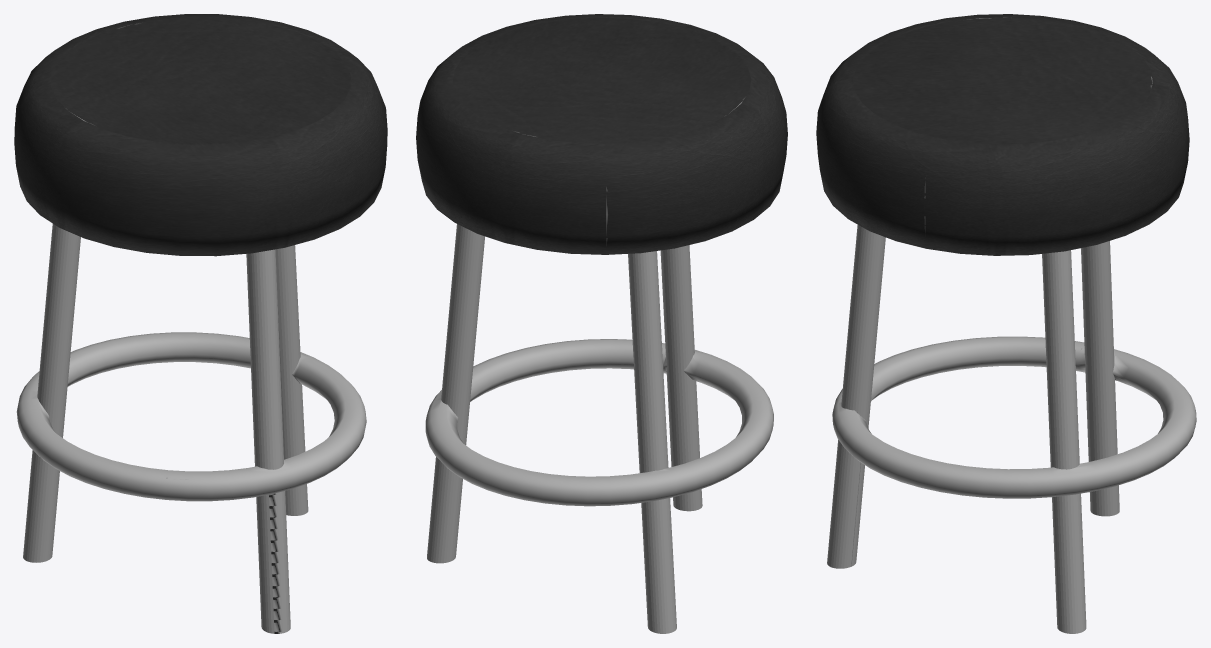
Rendered from SB_Stool.fbx.
3 views of the same model, side by side, from view 1: azimuth 30°, elevation 25°; view 2: azimuth 150°, elevation 25°; view 3: azimuth 270°, elevation 25° (orthographic).
Visible parts, largest first — view 1: SB_Barstool.003; view 2: SB_Barstool.003; view 3: SB_Barstool.003.
Boxes of the visible parts, x1,y1,x2,y2 form: SB_Barstool.003: (14,14,387,633); SB_Barstool.003: (416,14,787,633); SB_Barstool.003: (816,14,1196,633).
Bounding box in the file's own units: 117 × 167 × 119.
